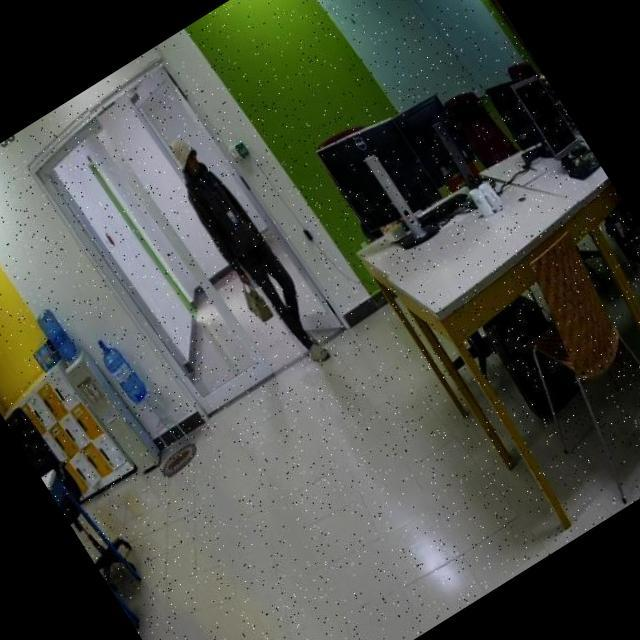person: (156, 125, 346, 382)
